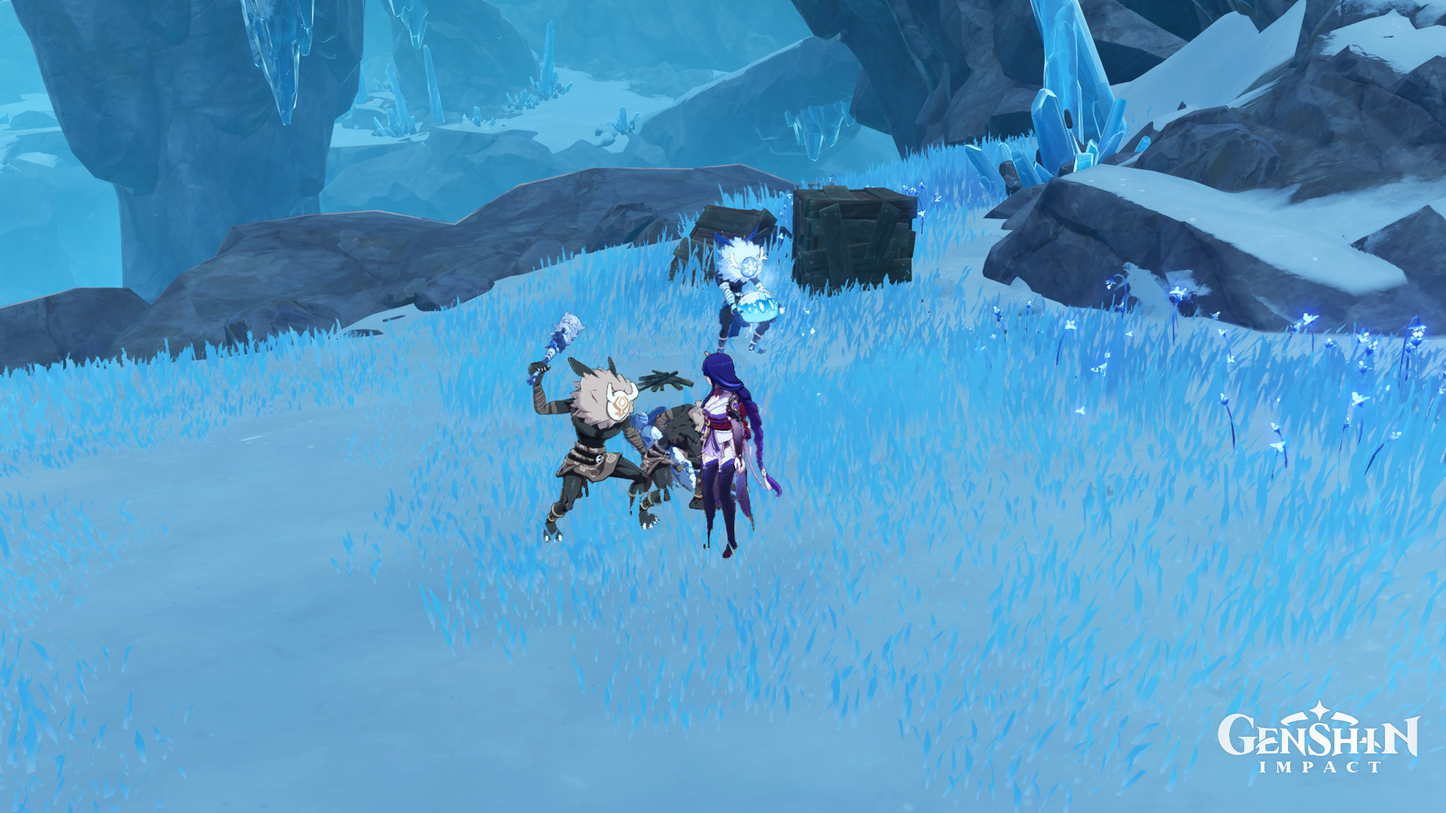Human: (690, 346, 788, 562)
Monster: (507, 307, 662, 543), (635, 385, 730, 535), (700, 224, 786, 360)
